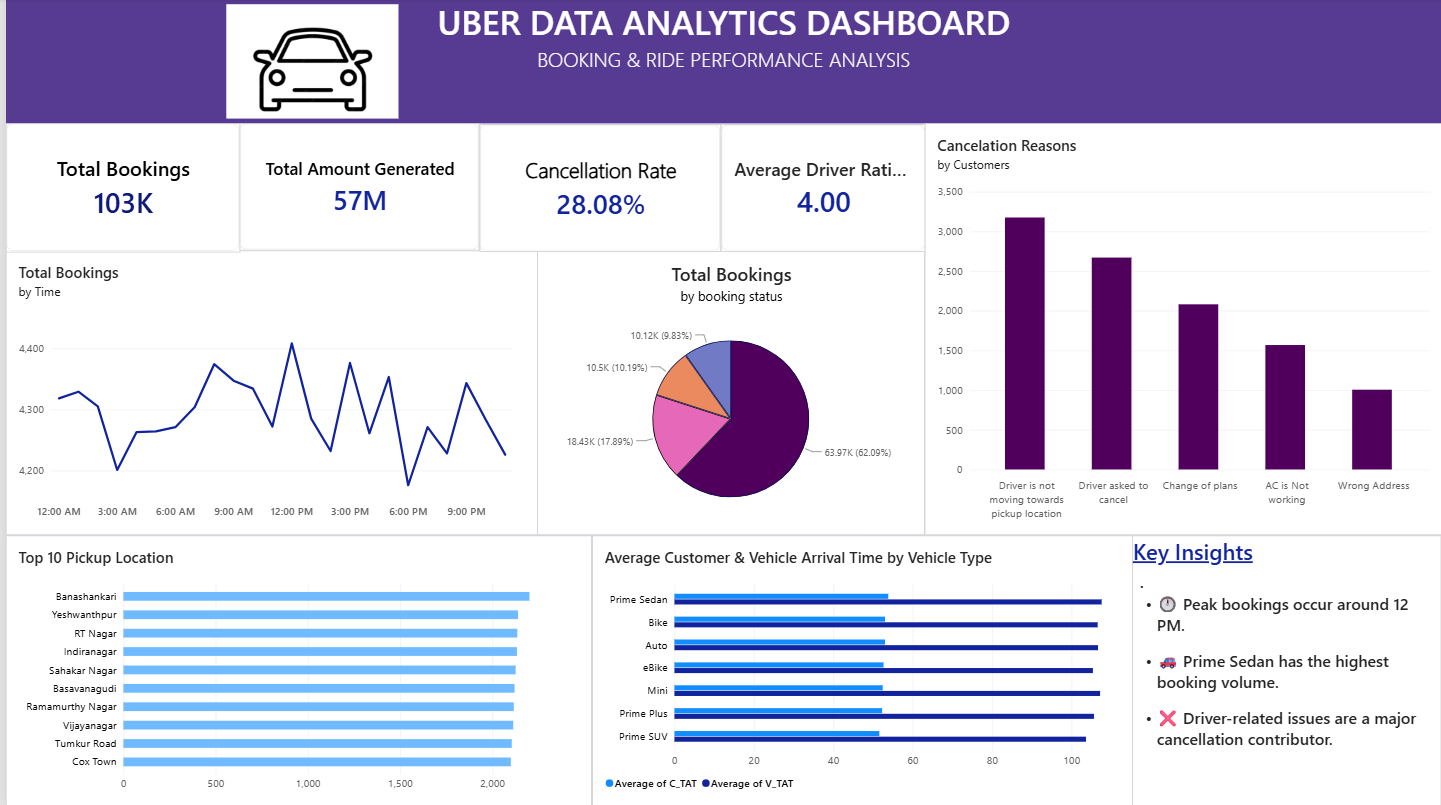

What the dashboard file says about the page in this screenshot:
{"tool":"powerbi","page":{"name":"Page 1","canvas":[1920,1080],"ordinal":0},"visuals":[{"type":"lineChart","title":"Total Bookings","fields":{"Category":["Bookings.new_time"],"Y":["CountNonNull(Bookings.Booking_ID)"]},"box":[0,337.5,710,380],"z":0},{"type":"columnChart","title":"Cancelation Reasons","fields":{"Category":["Bookings.Canceled_Rides_by_Customer"],"Y":["CountNonNull(Bookings.Booking_Status)"]},"box":[1227.5,167.5,692.5,550],"z":1000},{"type":"pieChart","title":"Total Bookings","fields":{"Category":["Bookings.Booking_Status"],"Y":["CountNonNull(Bookings.Booking_ID)"]},"box":[710,337.5,517.5,380],"z":2000},{"type":"clusteredBarChart","title":"Top 10 Pickup Location","fields":{"Category":["Bookings.Pickup_Location"],"Y":["CountNonNull(Bookings.Booking_ID)"]},"box":[0,717.5,782.5,362.5],"z":3000},{"type":"clusteredBarChart","title":"Average Customer & Vehicle Arrival Time by Vehicle Type","fields":{"Category":["Bookings.Vehicle_Type"],"Y":["Avg(Bookings.C_TAT)","Avg(Bookings.V_TAT)"]},"box":[782.5,717.5,722.5,362.5],"z":4000},{"type":"cardVisual","fields":{"Data":["Bookings.Total Bookings"]},"box":[0,167.5,312.5,172.5],"z":5000},{"type":"cardVisual","fields":{"Data":["Bookings.Total Amount Generated"]},"box":[312.5,167.5,320,170],"z":6000},{"type":"textbox","title":"Key Insights","box":[1505,717.5,412.5,362.5],"z":7000},{"type":"cardVisual","fields":{"Data":["Bookings.Cancellation Rate"]},"box":[632.2,168.5,322,170],"z":8000},{"type":"textbox","title":"UBER DATA ANALYTICS DASHBOARD","box":[0,0,1917.5,167.5],"z":9000},{"type":"cardVisual","fields":{"Data":["Bookings.Average Driver Rating"]},"box":[955,168,273,170],"z":10000},{"type":"image","box":[294,6,230,156],"z":11000}]}

Visuals, with their boxes in screenshot pixels (x1, y1, x2, y2), scaled from the page's 1920x1080 canvas onto the 1441x805 screenshot:
"Total Bookings" lineChart: l=0, t=252, r=533, b=535
"Cancelation Reasons" columnChart: l=921, t=125, r=1440, b=535
"Total Bookings" pieChart: l=533, t=252, r=921, b=535
"Top 10 Pickup Location" clusteredBarChart: l=0, t=535, r=587, b=804
"Average Customer & Vehicle Arrival Time by Vehicle Type" clusteredBarChart: l=587, t=535, r=1130, b=804
cardVisual - Bookings.Total Bookings: l=0, t=125, r=235, b=253
cardVisual - Bookings.Total Amount Generated: l=235, t=125, r=475, b=252
"Key Insights" textbox: l=1130, t=535, r=1439, b=804
cardVisual - Bookings.Cancellation Rate: l=474, t=126, r=716, b=252
"UBER DATA ANALYTICS DASHBOARD" textbox: l=0, t=0, r=1439, b=125
cardVisual - Bookings.Average Driver Rating: l=717, t=125, r=922, b=252
image: l=221, t=4, r=393, b=121
